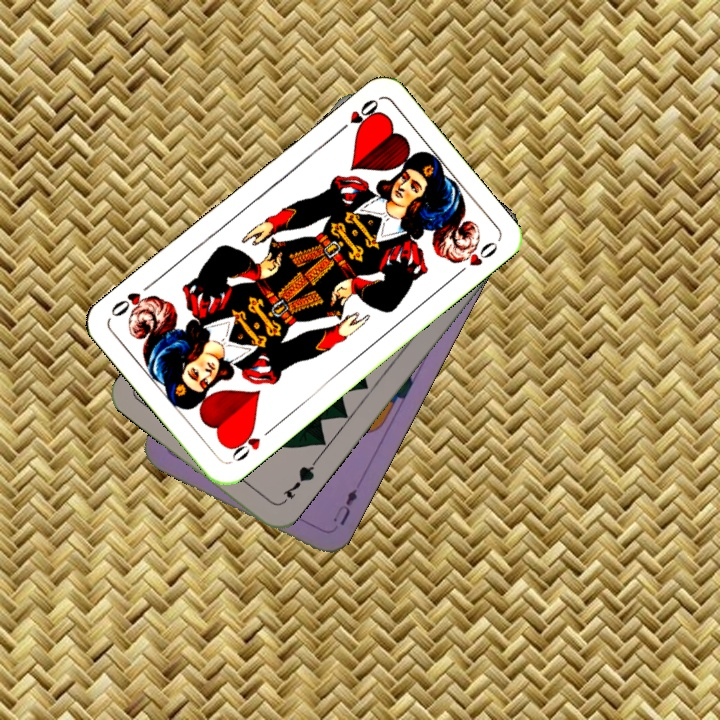EU: (329, 485, 360, 529)
G7: (277, 457, 319, 507)
HO: (225, 423, 276, 466), (332, 95, 381, 138)
